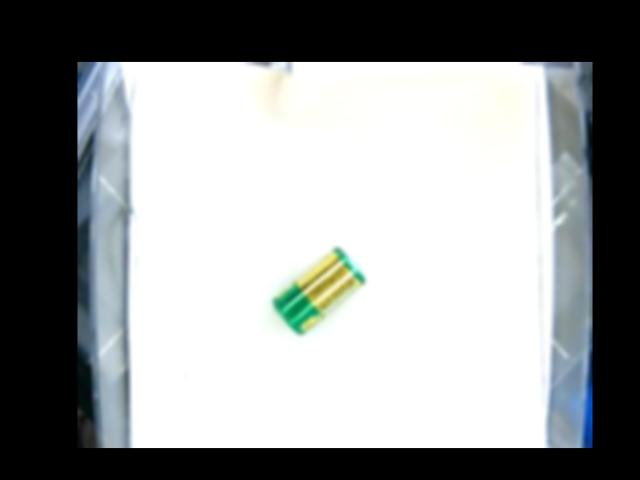Battery: (273, 247, 366, 333)
